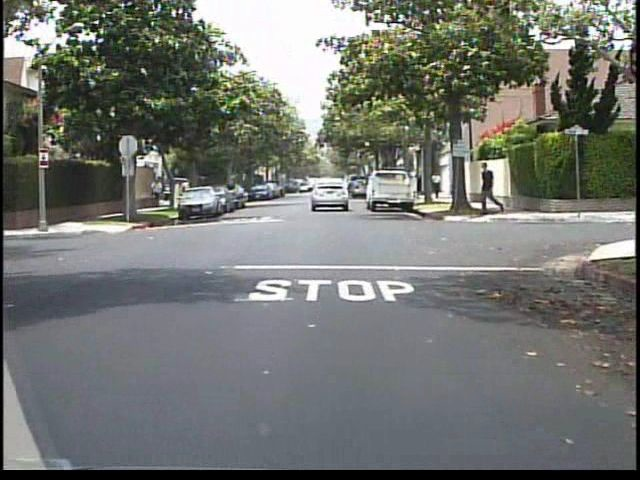person: (478, 159, 506, 217), (150, 177, 169, 208), (428, 167, 445, 201), (178, 175, 194, 206)
